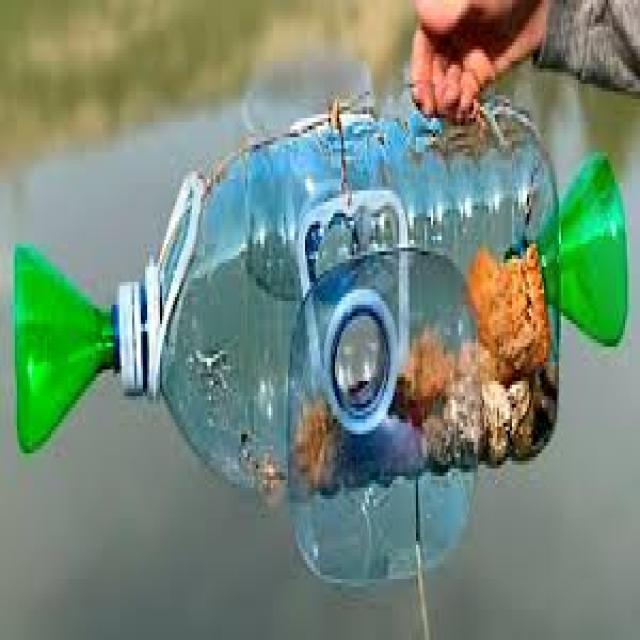bottle: (15, 100, 627, 582)
plastic: (13, 248, 115, 453), (538, 157, 627, 346)
